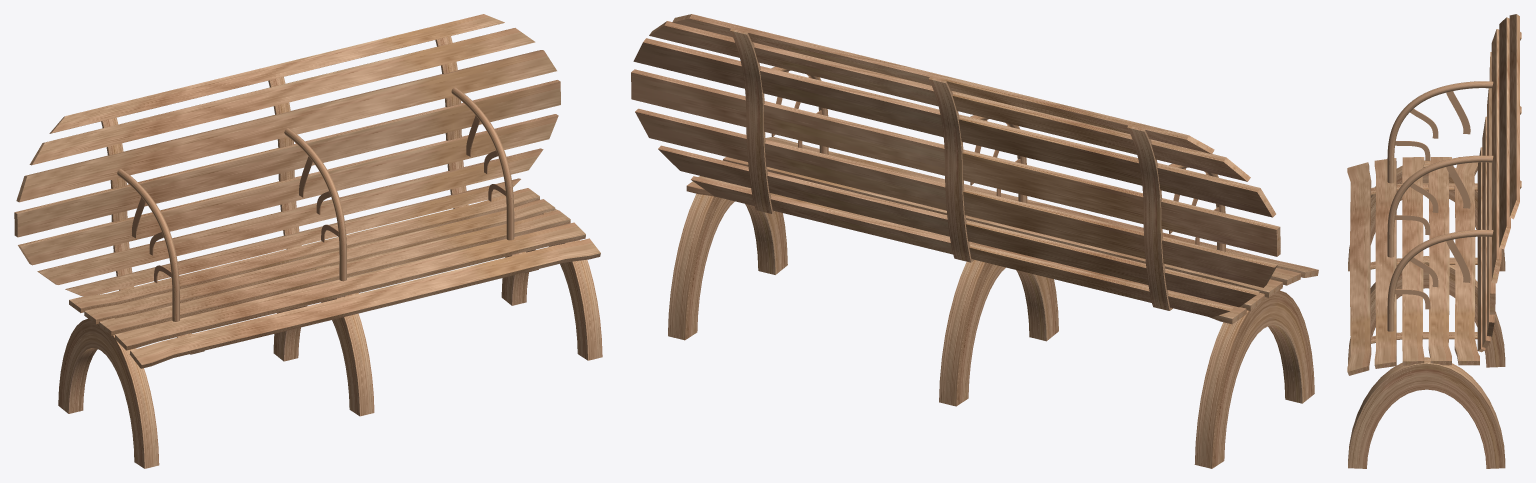
Rendered from bench.fbx.
3 renders of one model, left to right at view 1: azimuth 30°, elevation 25°; view 2: azimuth 150°, elevation 25°; view 3: azimuth 270°, elevation 25°, orthographic. The views are drawn at different scales.
Parts seen in each view (by area): view 1: Handle4; view 2: Handle4; view 3: Handle4.
Boxes of the visible parts, x1,y1,x2,y2 form: Handle4: [14, 14, 602, 468]; Handle4: [631, 14, 1318, 468]; Handle4: [1347, 14, 1521, 468].
Size of the model in its own units: 13 by 6.47 by 3.96.
